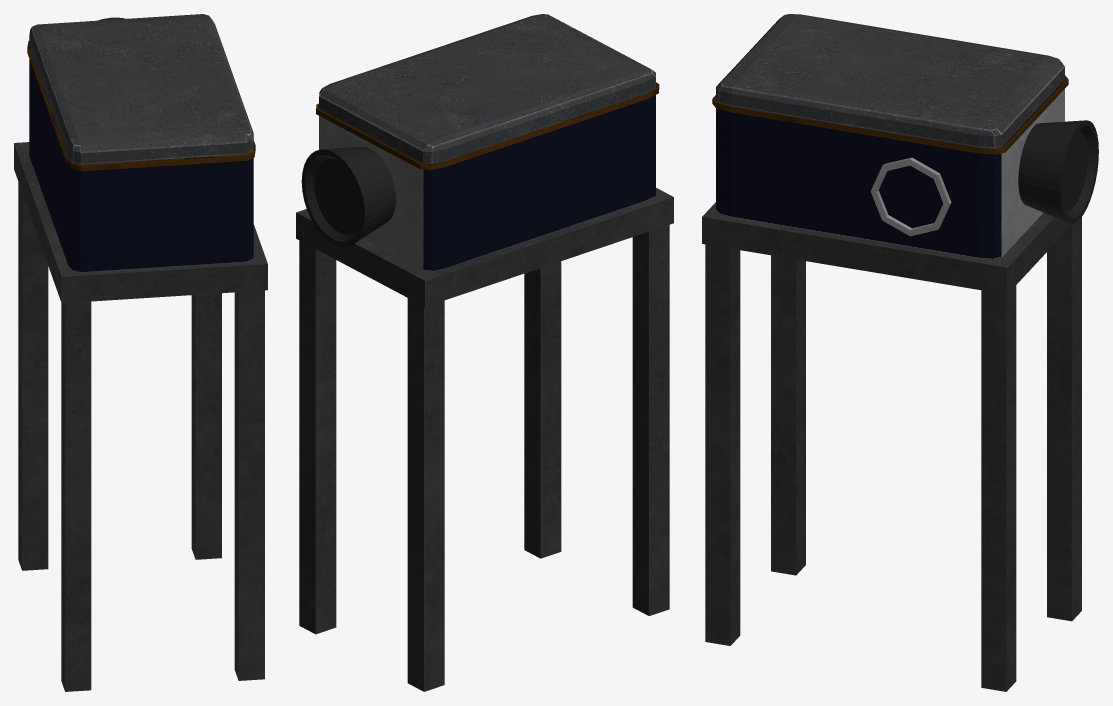
The picture shows the model from 3 angles, left to right: view 1: azimuth 30°, elevation 25°; view 2: azimuth 150°, elevation 25°; view 3: azimuth 270°, elevation 25°; orthographic projection. The views are drawn at different scales.
Visible parts, largest first — view 1: Cube; view 2: Cube; view 3: Cube.
Boxes of the visible parts, left/top/right/bottom form: Cube: left=14, top=14, right=267, bottom=691; Cube: left=296, top=14, right=673, bottom=691; Cube: left=702, top=14, right=1098, bottom=691.
Bounding box in the file's own units: 257 × 494 × 320.
1 material, 1 textured.
